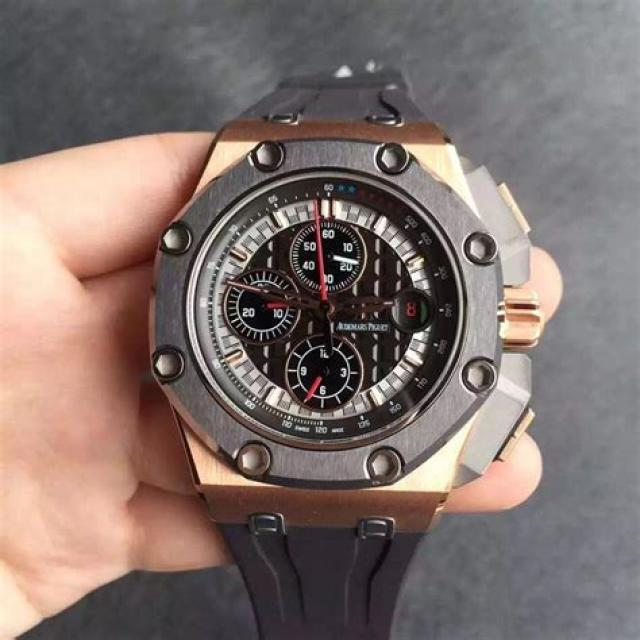Watch: (146, 70, 538, 640)
